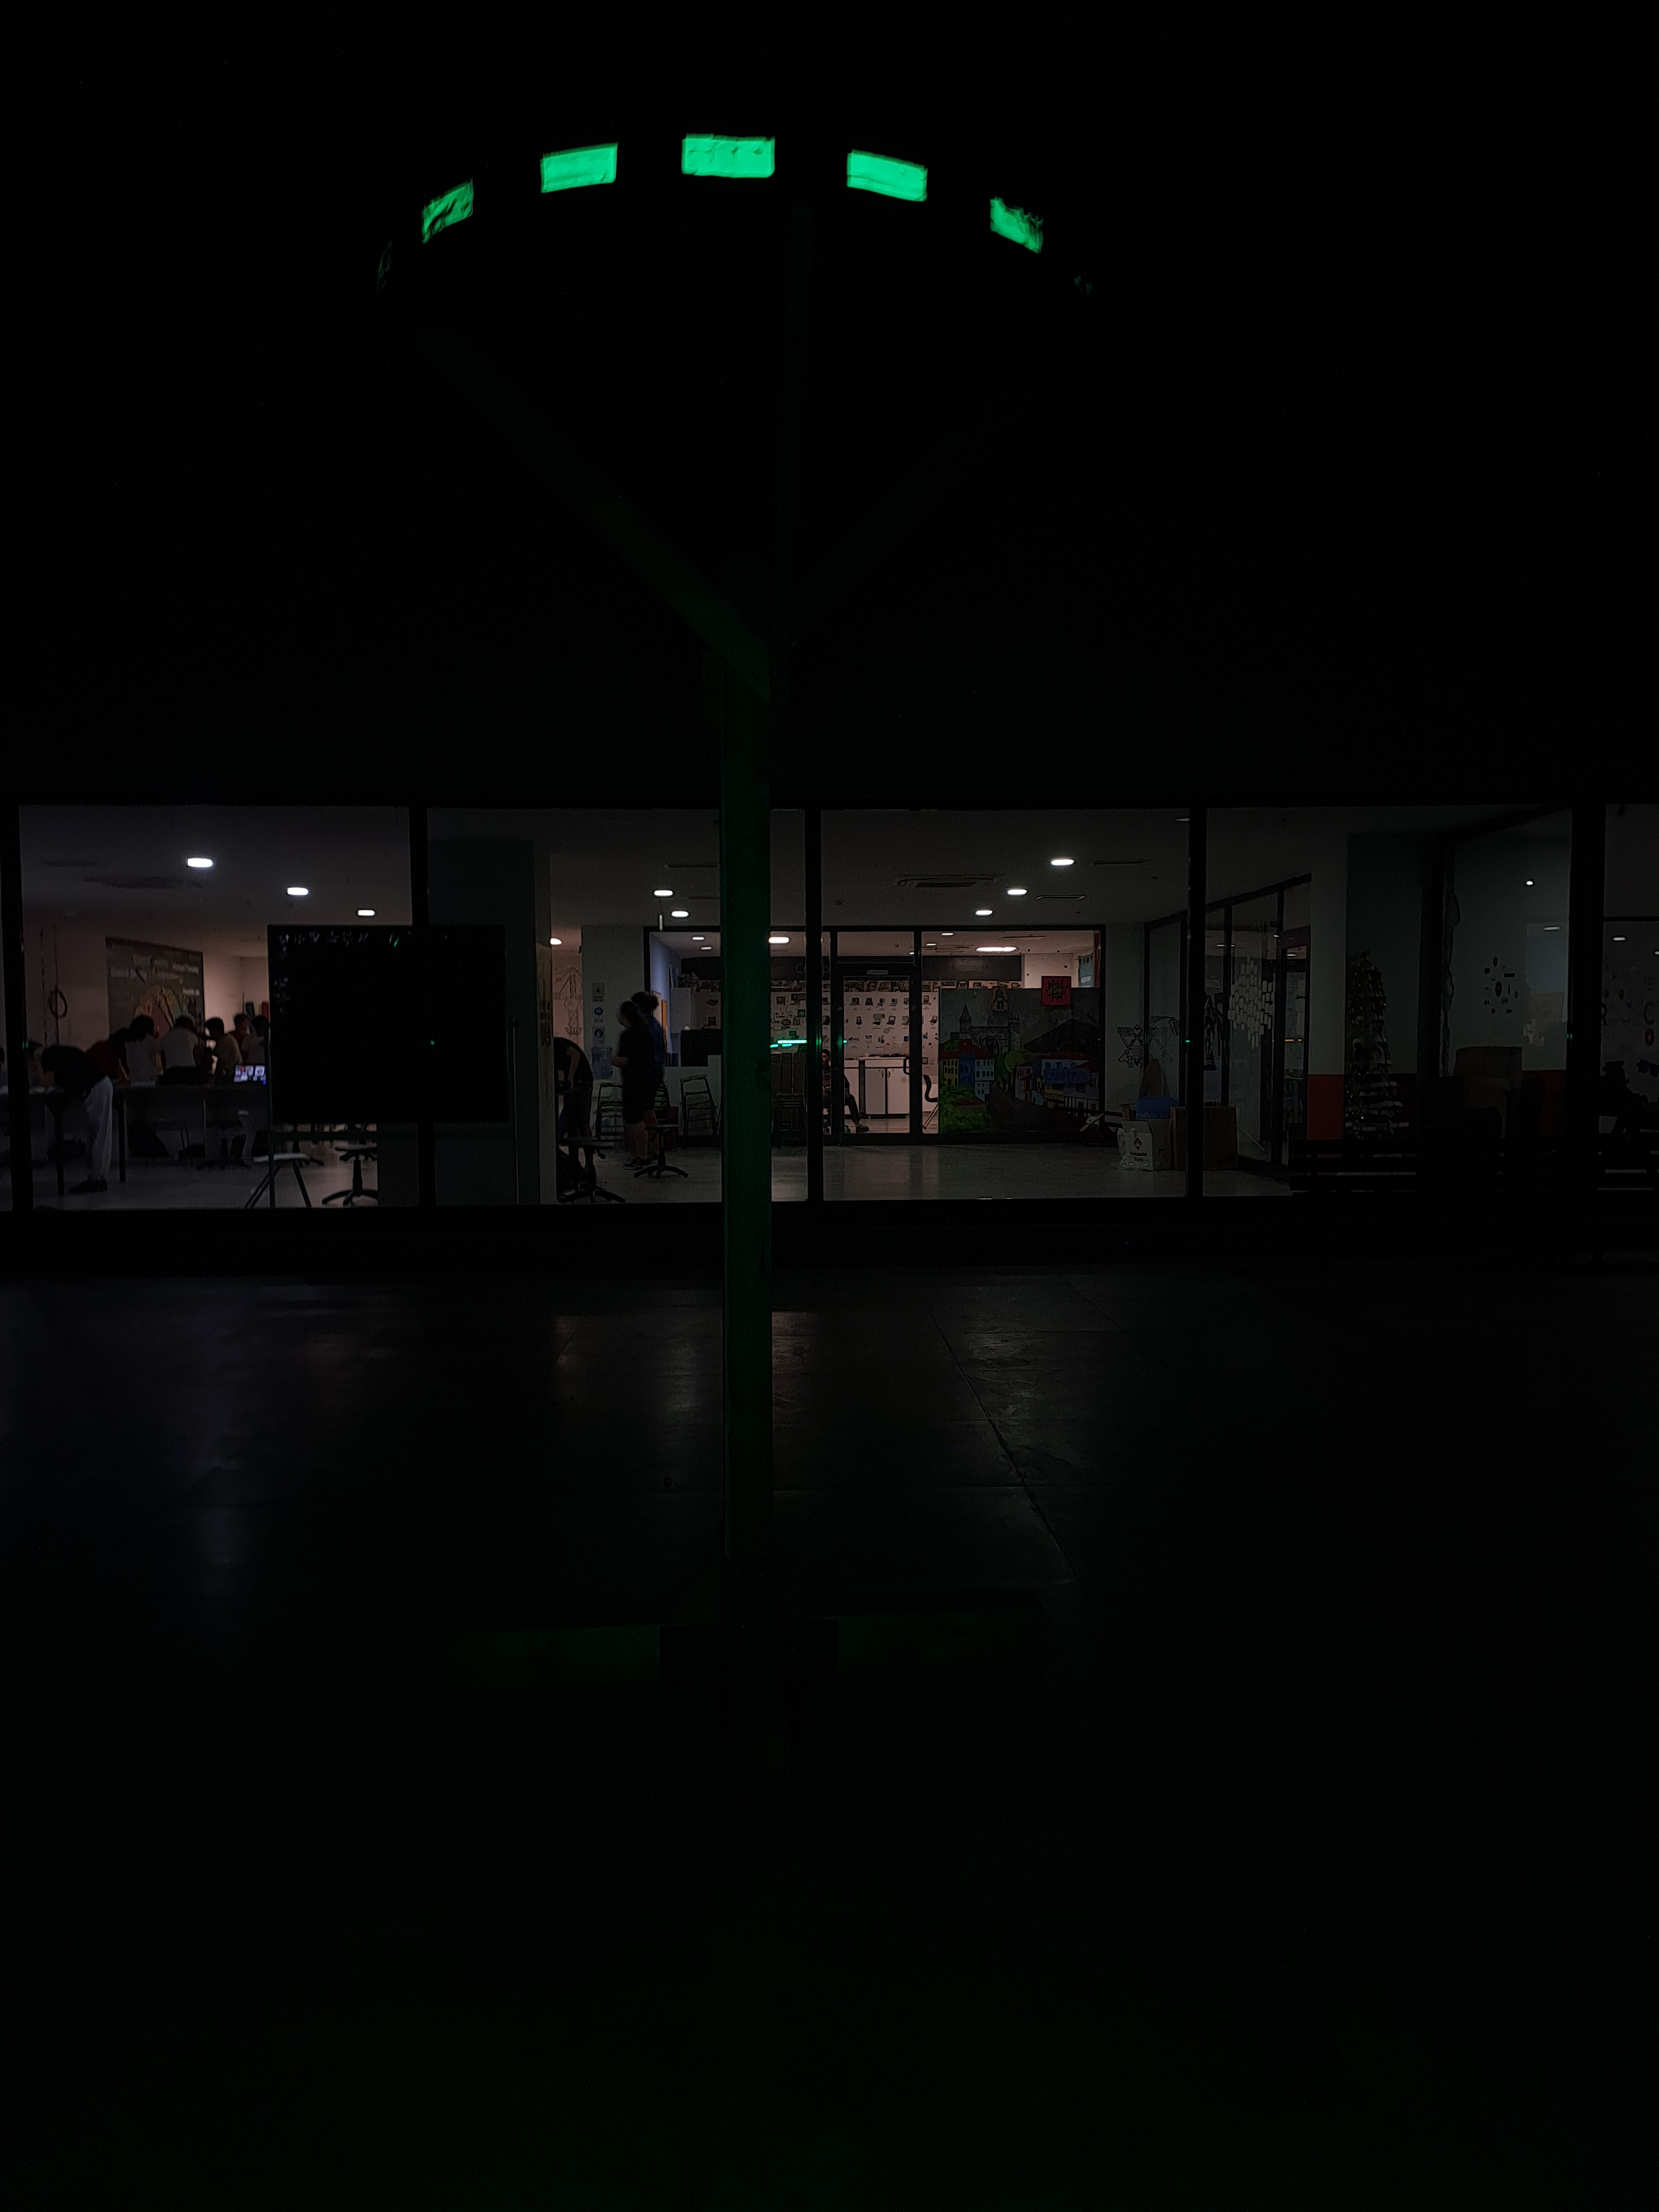hoop: (420, 127, 1047, 251)
